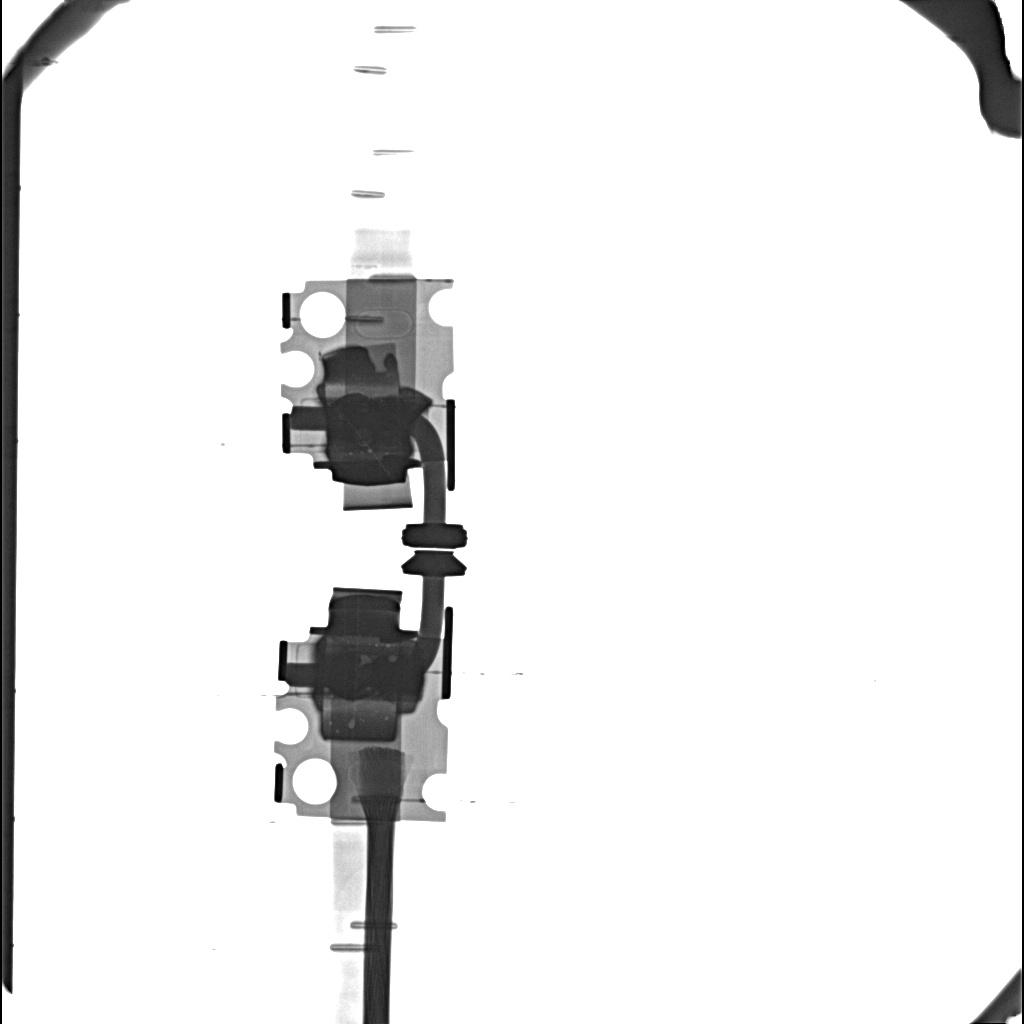PX: (322, 341, 401, 399), (320, 691, 399, 742)
SX: (315, 653, 423, 698), (326, 400, 422, 440)
